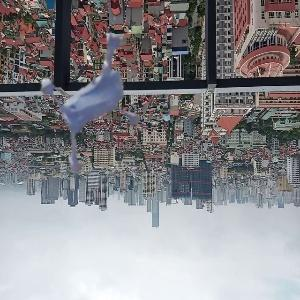drone: (13, 2, 172, 161)
